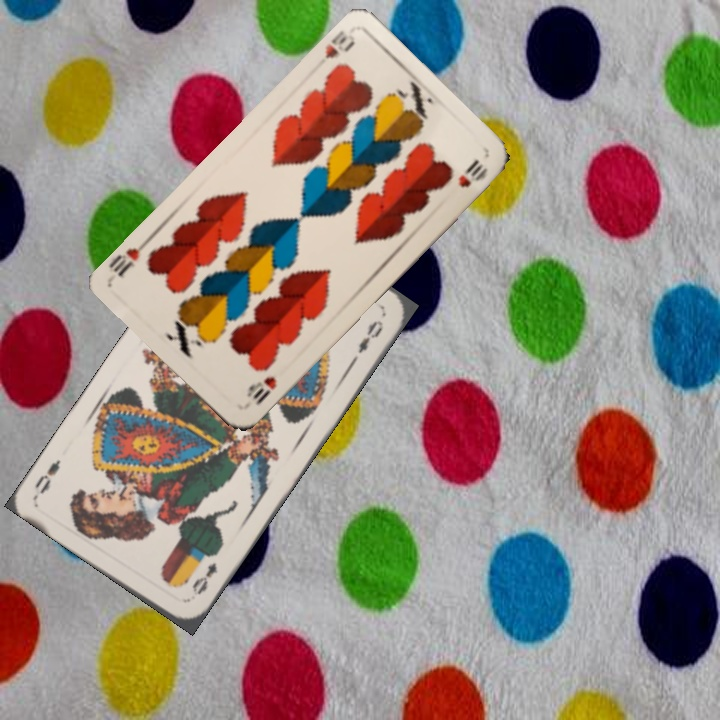EO: (188, 558, 220, 598)
H10: (242, 372, 280, 408), (320, 26, 358, 62)
